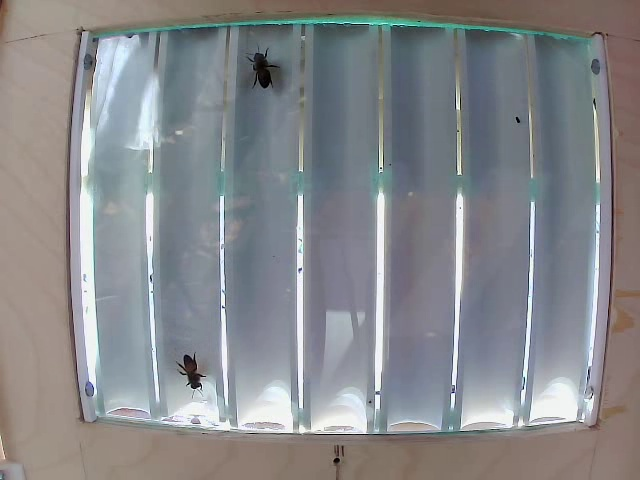bee: (180, 346, 220, 407), (253, 45, 283, 100)
